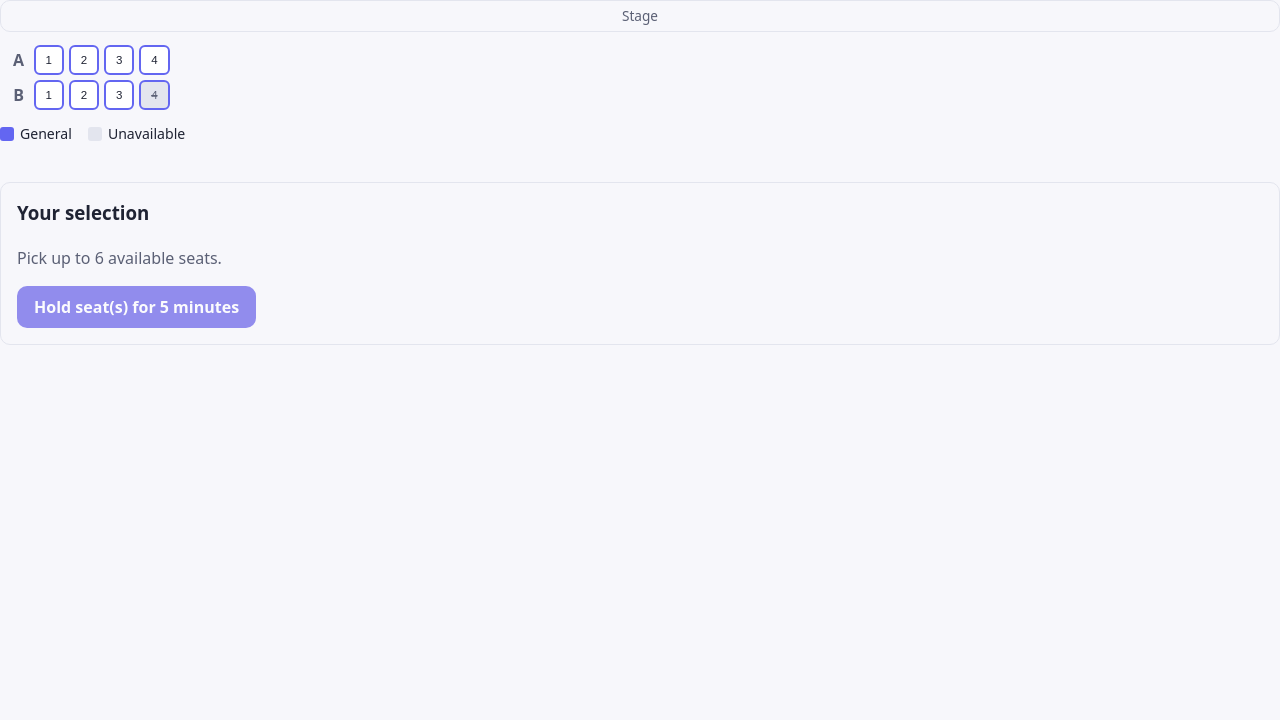
Scenario: SeatSelection › handles seats taken by someone else: deselects them, refreshes and explains
Click the cell named "Row A seat 1" at (49, 60), box x1=34 y1=45 x2=64 y2=75
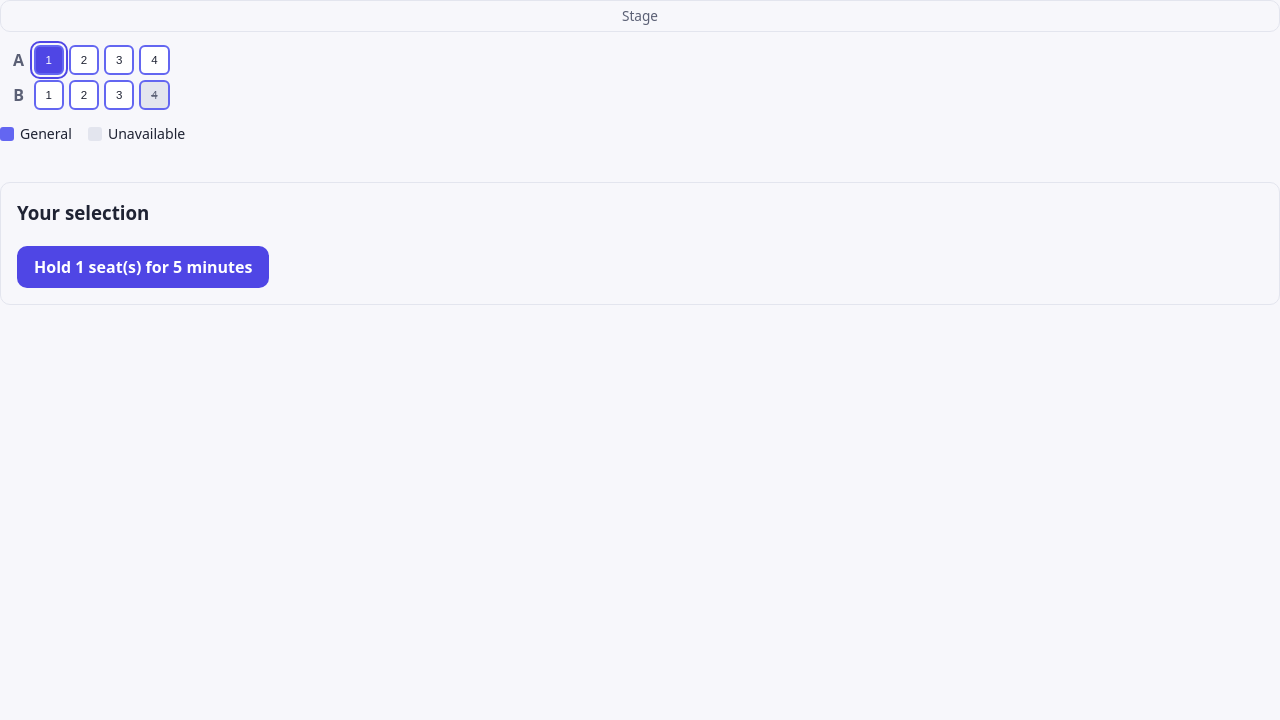
Click the cell named "Row A seat 2" at (84, 60), box x1=69 y1=45 x2=99 y2=75
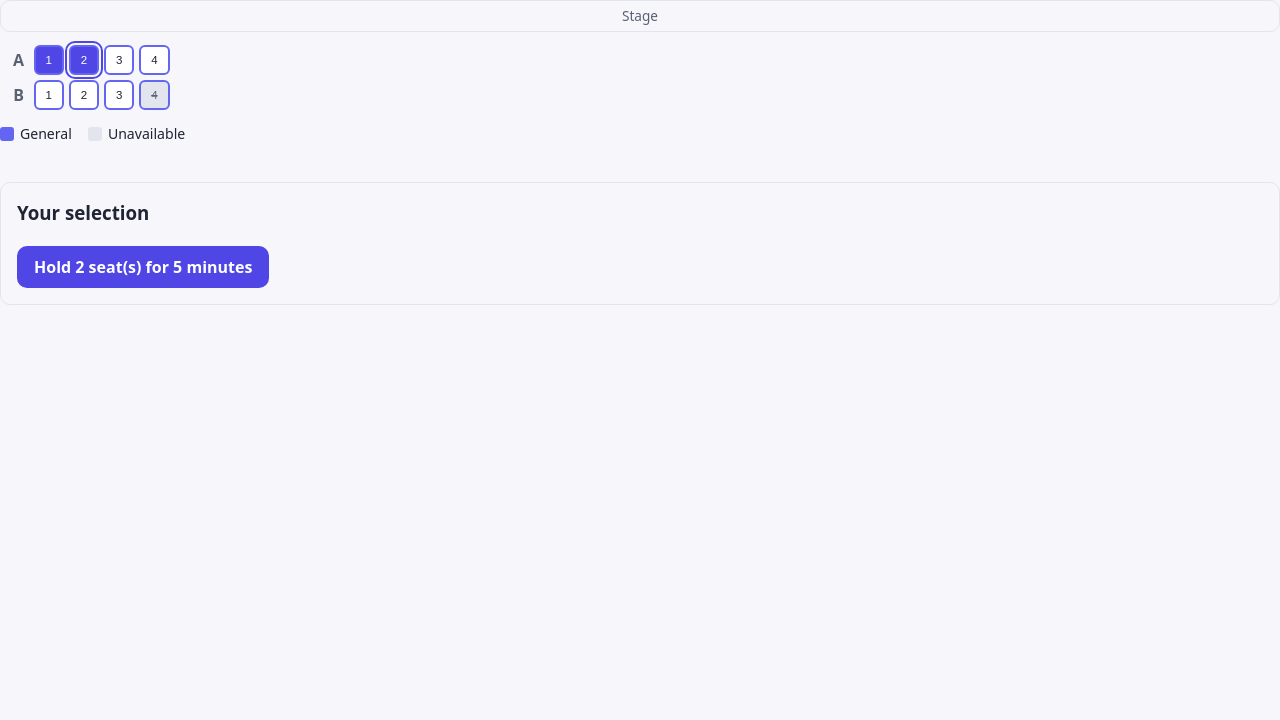
Click the button "Hold 2 seat(s) for 5 minutes" at (143, 267), box x1=17 y1=246 x2=269 y2=288
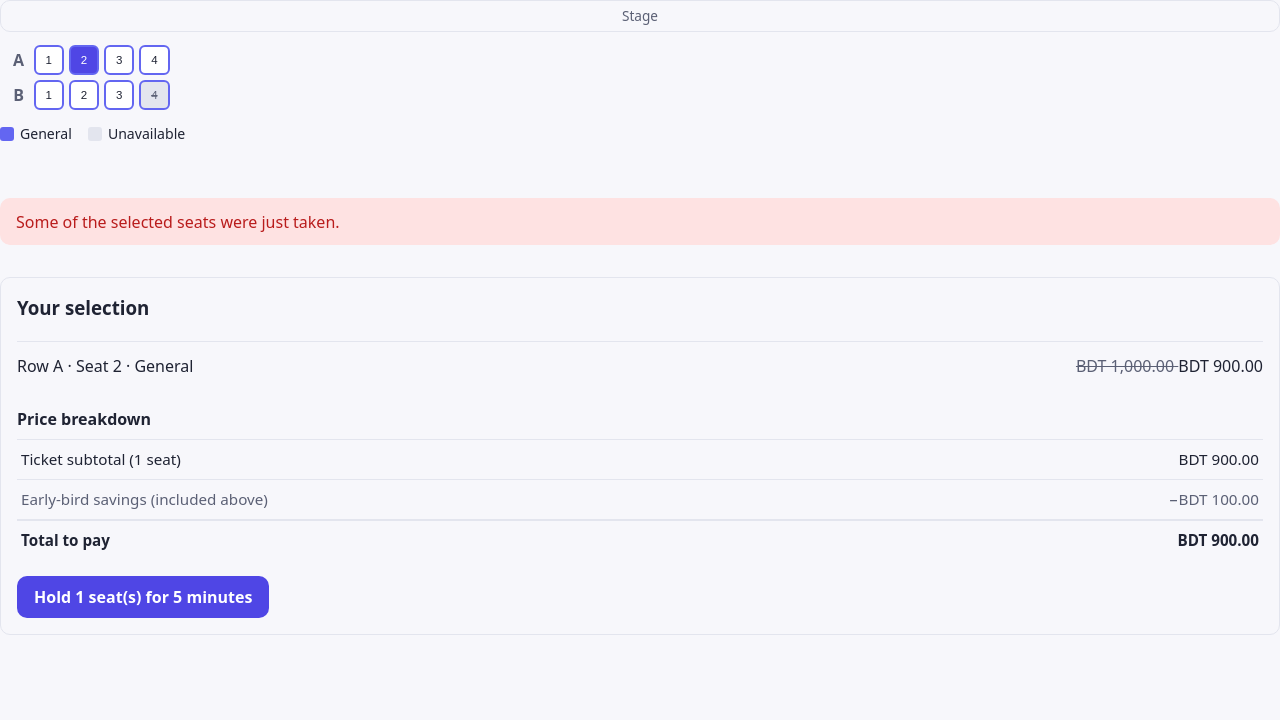
Now the message shows "just taken", box x1=16 y1=210 x2=340 y2=232
